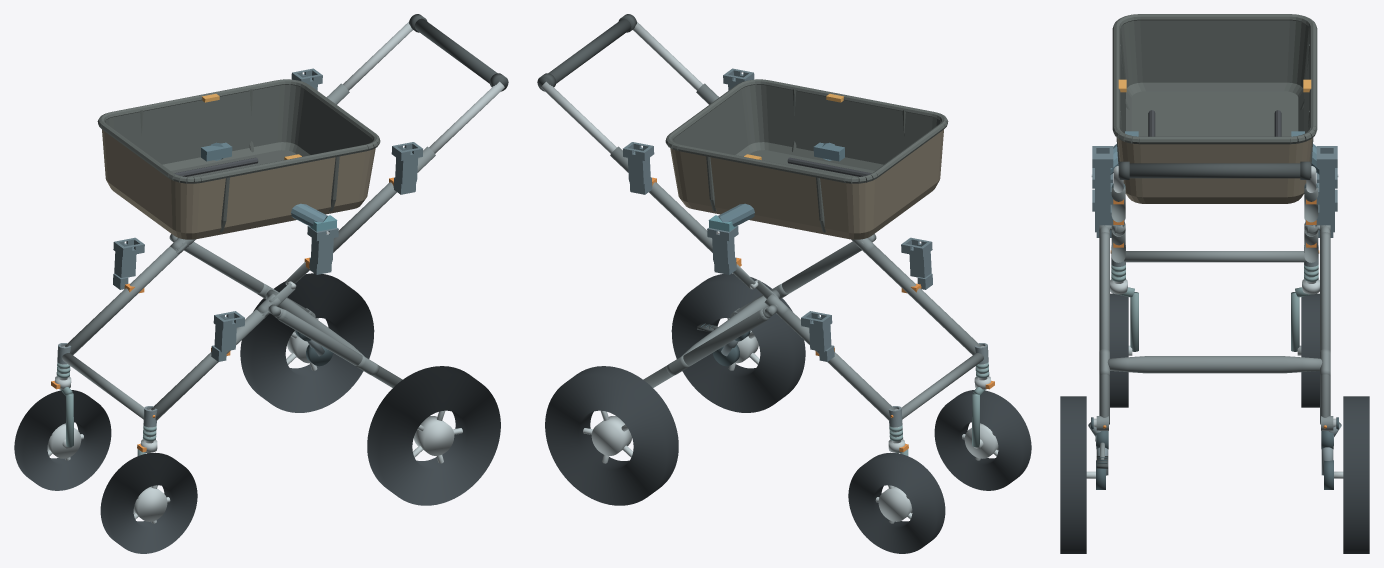
The model's file is S13_w550_state1_wheel_L.glb.
The picture shows the model from 3 angles, left to right: view 1: azimuth 30°, elevation 25°; view 2: azimuth 150°, elevation 25°; view 3: azimuth 270°, elevation 25°; orthographic projection. The views are drawn at different scales.
Visible parts, largest first — view 1: S13_Cabin, RL_tire.002, RR_tire.002, FL_tire.002, FR_tire.002, main_lower_1.003, main_lower_-1.003, V46_rear_leg_-1.003, round_handle.002, main_upper_-1.003, S13_Cabin_Mount_M, Universal_Cabin_Receiver_H_-1 (+11 smaller); view 2: S13_Cabin, RR_tire.002, RL_tire.002, FR_tire.002, FL_tire.002, main_lower_-1.003, main_lower_1.003, V46_rear_leg_1.003, round_handle.002, main_upper_1.003, S13_Cabin_Mount_M, Universal_Cabin_Receiver_H_1 (+11 smaller); view 3: S13_Cabin, RL_tire.002, RR_tire.002, V46_rearbar.003, round_handle.002, front_fixed_round_tube.002, FL_tire.002, FR_tire.002, V46_rear_leg_1.003, V46_rear_leg_-1.003, Universal_Cabin_Receiver_H_1, Universal_Cabin_Receiver_H_-1 (+9 smaller).
Boxes of the visible parts, x1,y1,x2,y2 form: S13_Cabin: (97,79,380,239); RL_tire.002: (367,366,500,505); RR_tire.002: (240,273,374,412); FL_tire.002: (100,452,197,553); FR_tire.002: (14,390,111,490); main_lower_1.003: (65,243,186,354); main_lower_-1.003: (151,309,268,420); V46_rear_leg_-1.003: (277,309,402,387); round_handle.002: (414,18,507,89); main_upper_-1.003: (333,146,435,252); S13_Cabin_Mount_M: (201,142,337,234); Universal_Cabin_Receiver_H_-1: (391,142,422,194); S13_Cabin: (665,79,948,239); RR_tire.002: (545,366,678,505); RL_tire.002: (671,273,805,412); FR_tire.002: (848,452,945,553); FL_tire.002: (934,390,1031,490); main_lower_-1.003: (859,243,980,354); main_lower_1.003: (777,309,894,420); V46_rear_leg_1.003: (643,309,768,387); round_handle.002: (538,18,631,89); main_upper_1.003: (610,146,712,252); S13_Cabin_Mount_M: (708,142,844,234); Universal_Cabin_Receiver_H_1: (623,142,654,194); S13_Cabin: (1112,14,1317,203); RL_tire.002: (1060,396,1086,553); RR_tire.002: (1343,396,1369,553); V46_rearbar.003: (1107,356,1322,373); round_handle.002: (1118,163,1311,178); front_fixed_round_tube.002: (1124,251,1305,262); FL_tire.002: (1110,293,1128,407); FR_tire.002: (1301,293,1319,407); V46_rear_leg_1.003: (1320,232,1330,424); V46_rear_leg_-1.003: (1099,232,1109,424); Universal_Cabin_Receiver_H_1: (1316,146,1337,204); Universal_Cabin_Receiver_H_-1: (1092,146,1113,204).
Size of the model in its own units: 1.19 by 1.09 by 0.7071.
